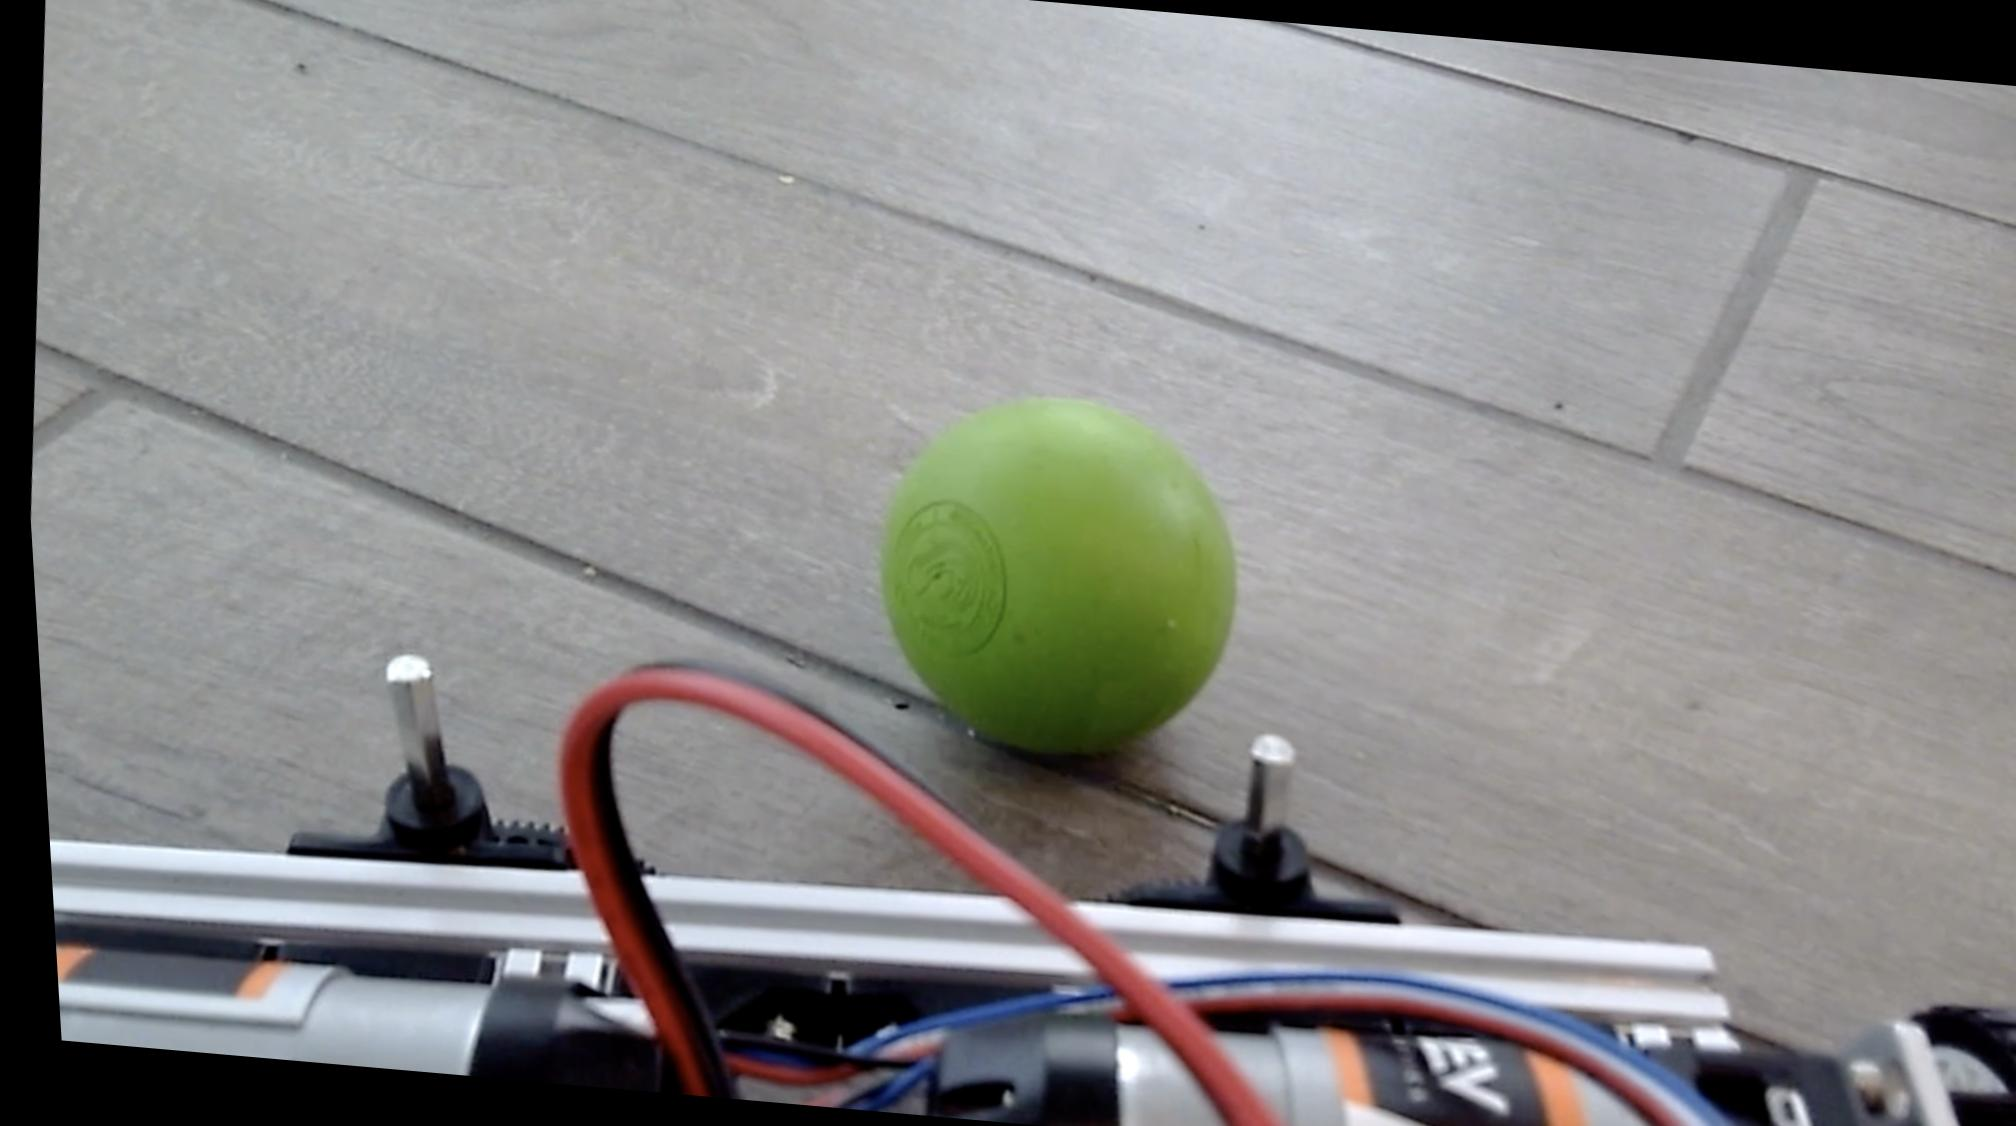greenball: (843, 375, 1256, 773)
